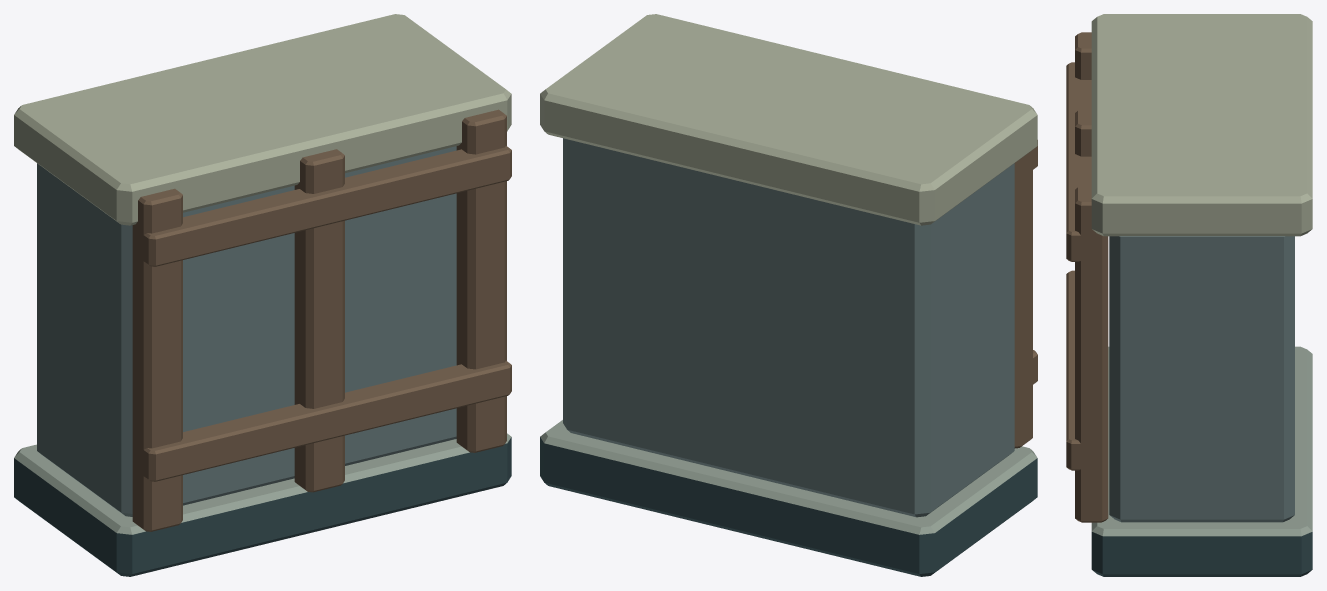
Rendered from wall-short.glb.
3 views of the same model, side by side, from view 1: azimuth 30°, elevation 25°; view 2: azimuth 150°, elevation 25°; view 3: azimuth 270°, elevation 25° (orthographic). The views are drawn at different scales.
Parts seen in each view (by area): view 1: wall-short__body; view 2: wall-short__body; view 3: wall-short__body.
Part boxes in pixels (<box>): wall-short__body: <box>14,14,511,576</box>; wall-short__body: <box>540,14,1037,576</box>; wall-short__body: <box>1066,14,1312,576</box>.
Size of the model in its own units: 1 by 0.95 by 0.5575.
